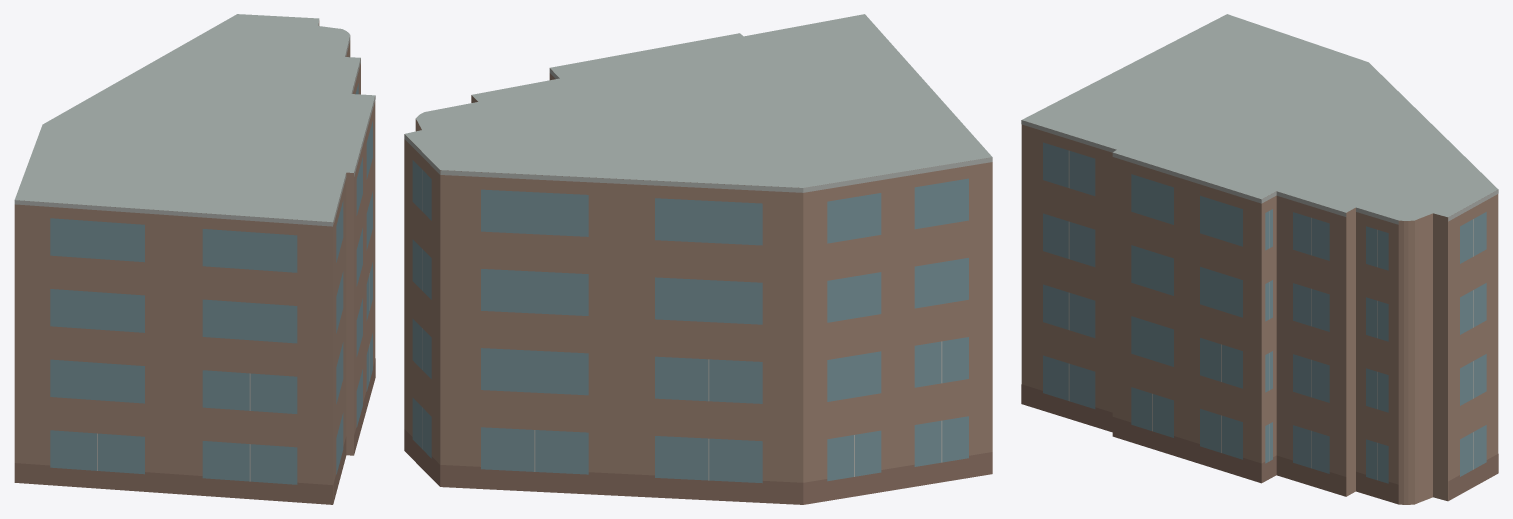
File: survey-upis-32824402.glb
3 renders of one model, left to right at view 1: azimuth 30°, elevation 25°; view 2: azimuth 150°, elevation 25°; view 3: azimuth 270°, elevation 25°, orthographic. The views are drawn at different scales.
Visible parts, largest first — view 1: survey-upis-32824402.tmp; view 2: survey-upis-32824402.tmp; view 3: survey-upis-32824402.tmp.
Boxes of the visible parts, bbox=[...] form: survey-upis-32824402.tmp: bbox=[14, 14, 375, 504]; survey-upis-32824402.tmp: bbox=[404, 14, 992, 504]; survey-upis-32824402.tmp: bbox=[1021, 14, 1498, 504].
Size of the model in its own units: 24.85 by 15.9 by 24.21.
